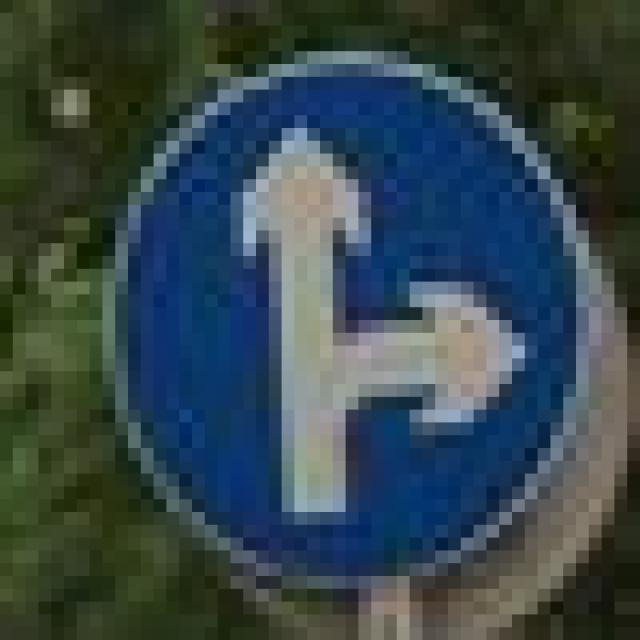COMPULSARY_AHEAD_OR_TURN_RIGHT: (90, 52, 576, 550)
